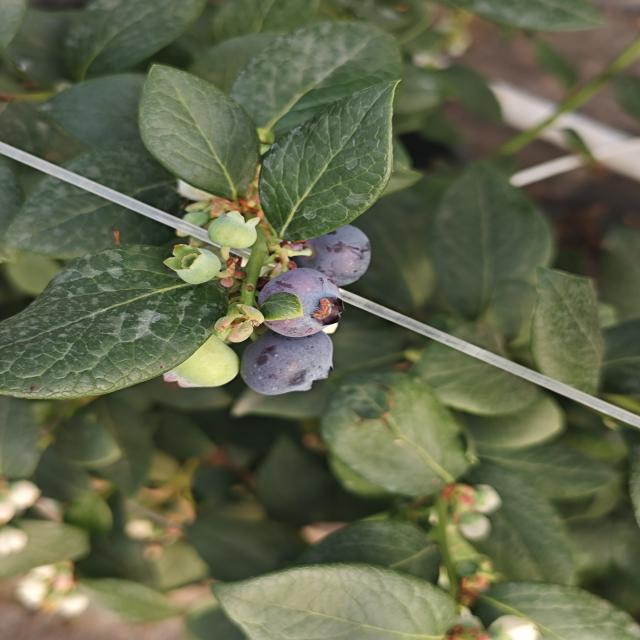ripe: (241, 334, 342, 395), (250, 266, 342, 330), (298, 218, 379, 281)
